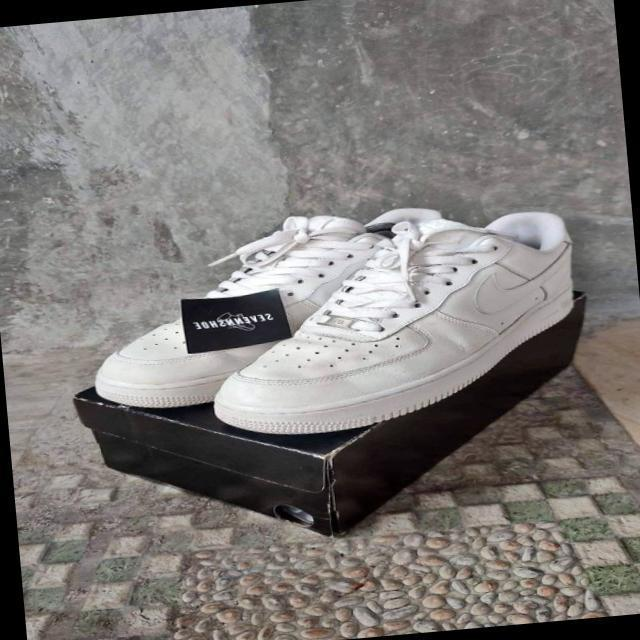nike fake air force: (194, 206, 585, 446), (80, 204, 455, 416)
